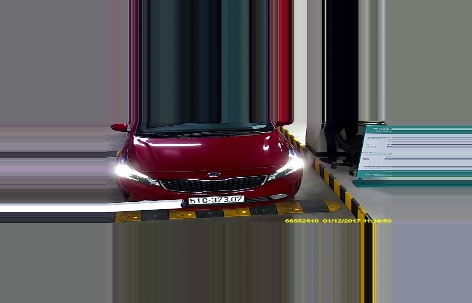plate: (186, 193, 245, 206)
